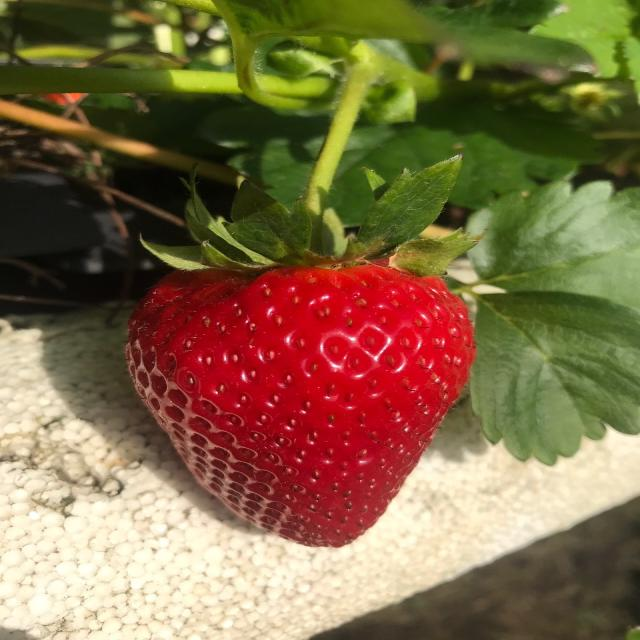strawberry: (100, 117, 507, 572)
